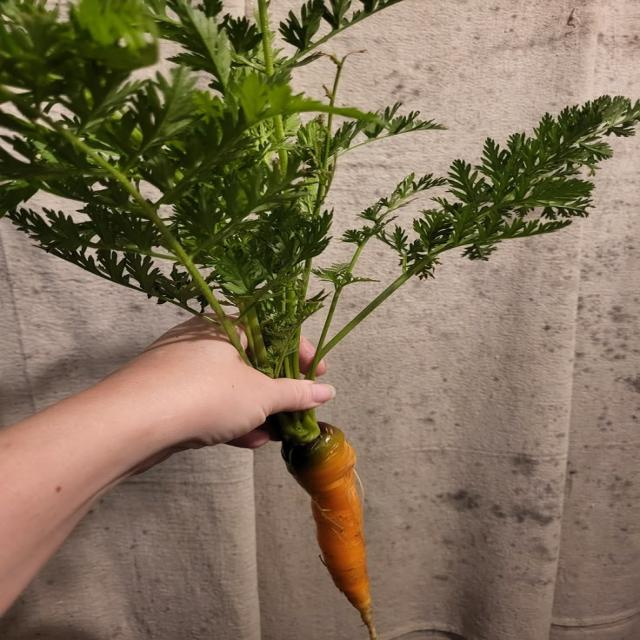carrot: (283, 423, 376, 639)
